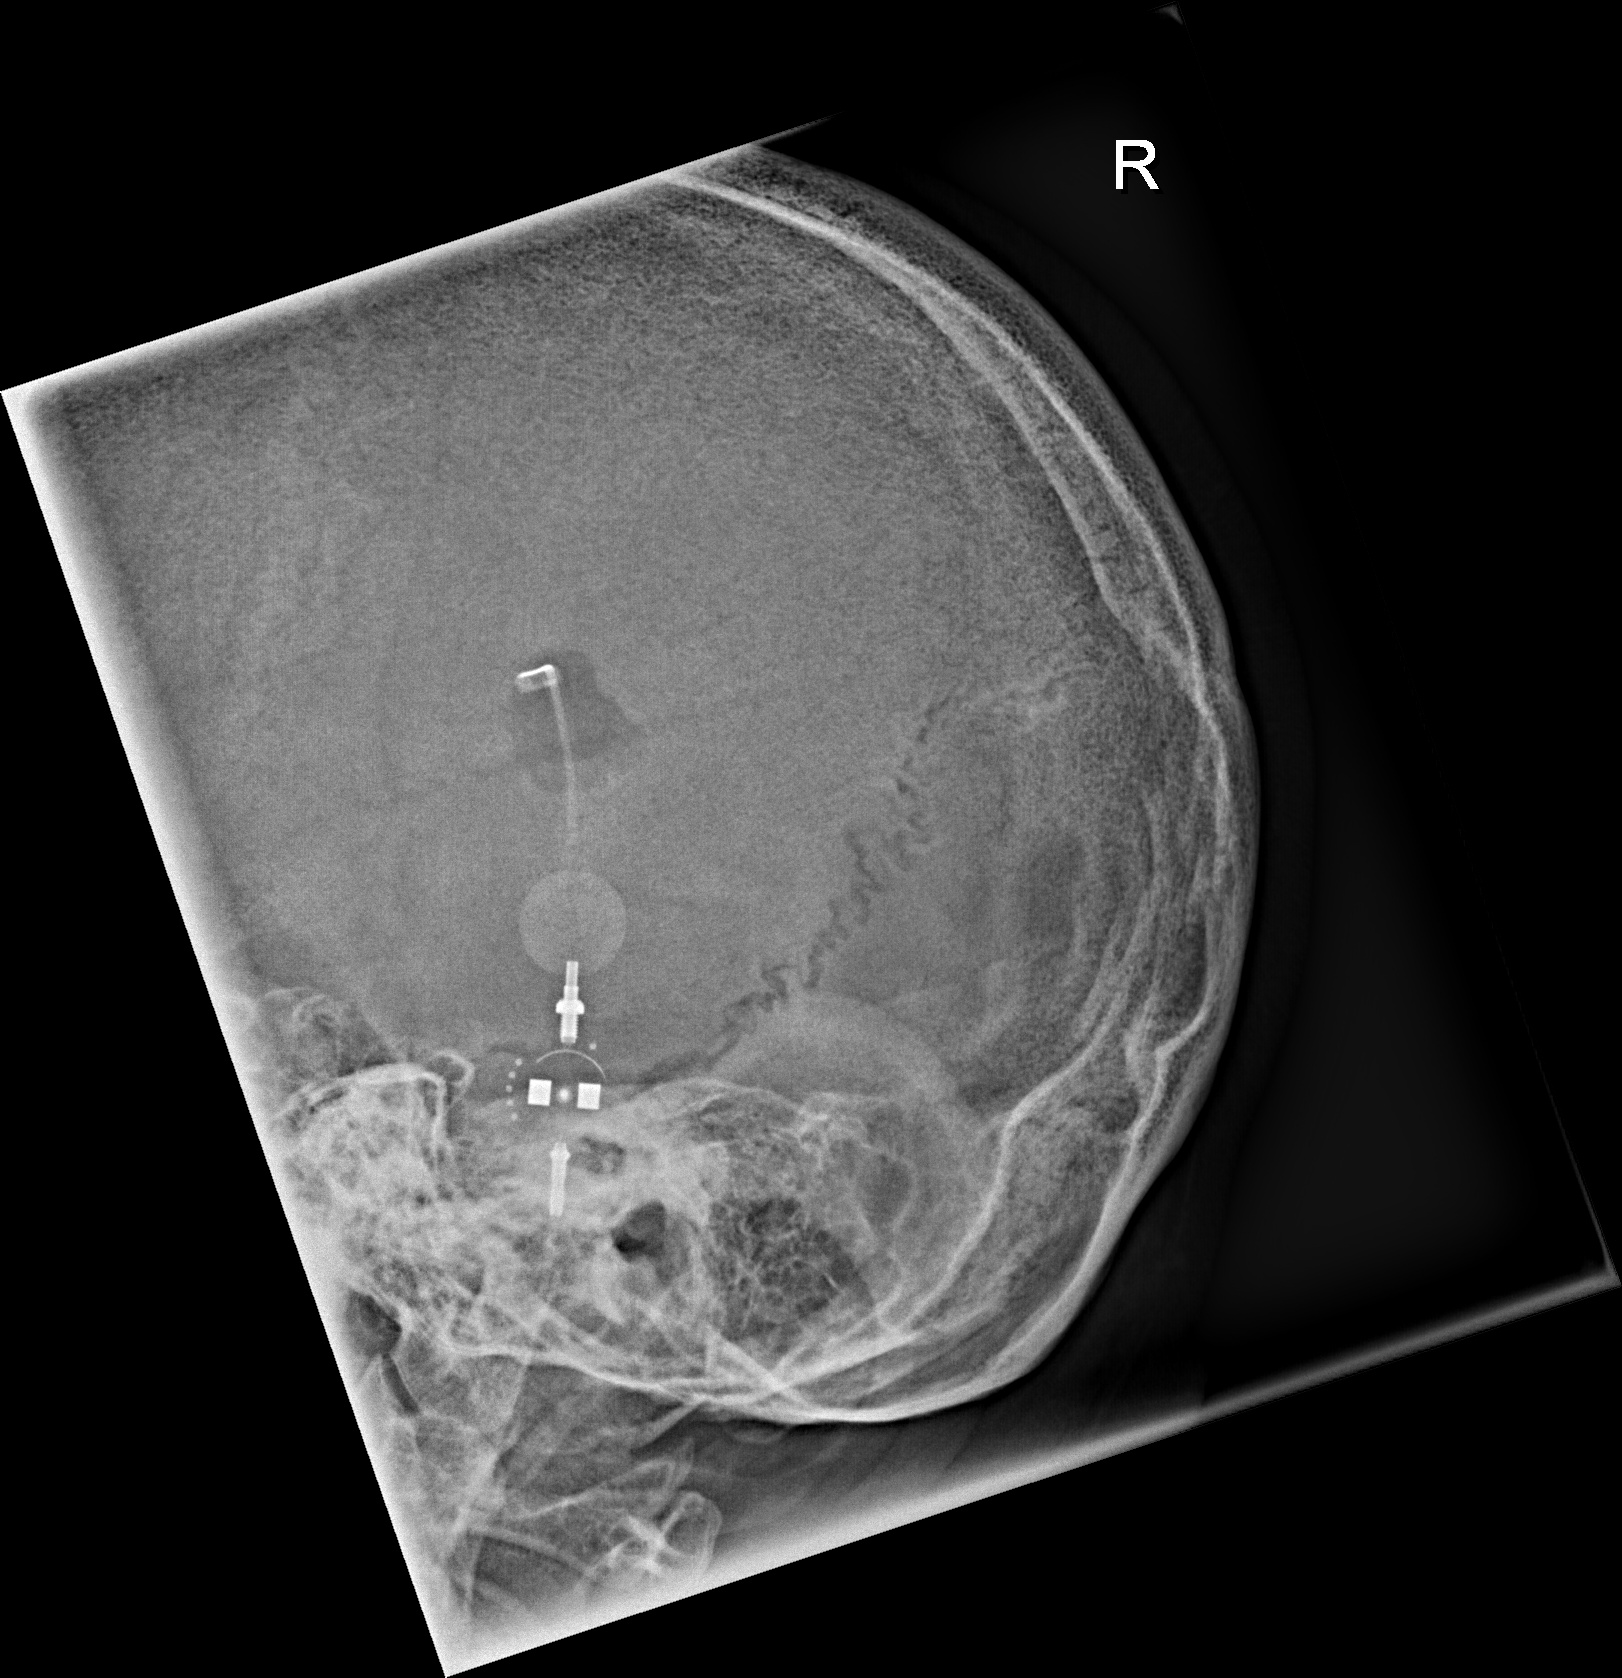Sophysa Polaris: (490, 1008, 643, 1184)
